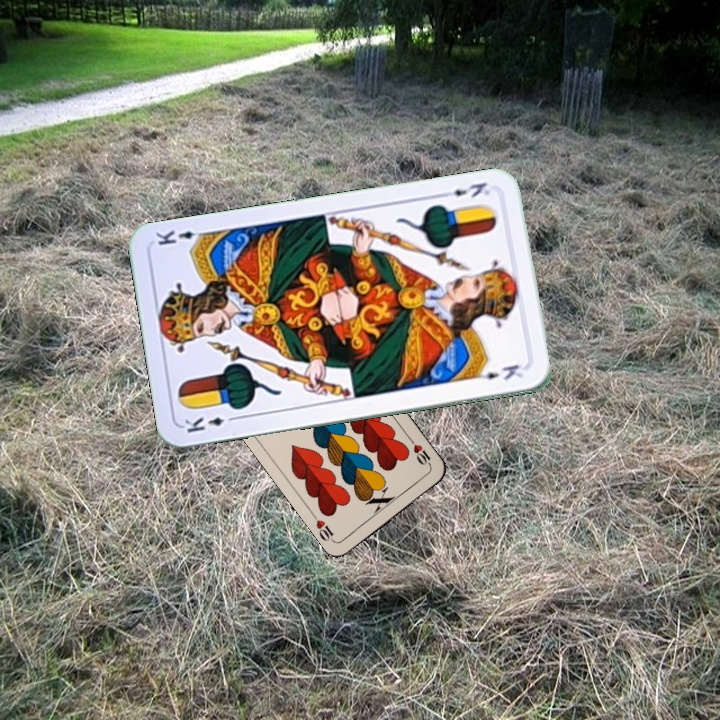EK: (180, 412, 240, 436), (438, 178, 493, 200)
H10: (406, 435, 434, 470)
